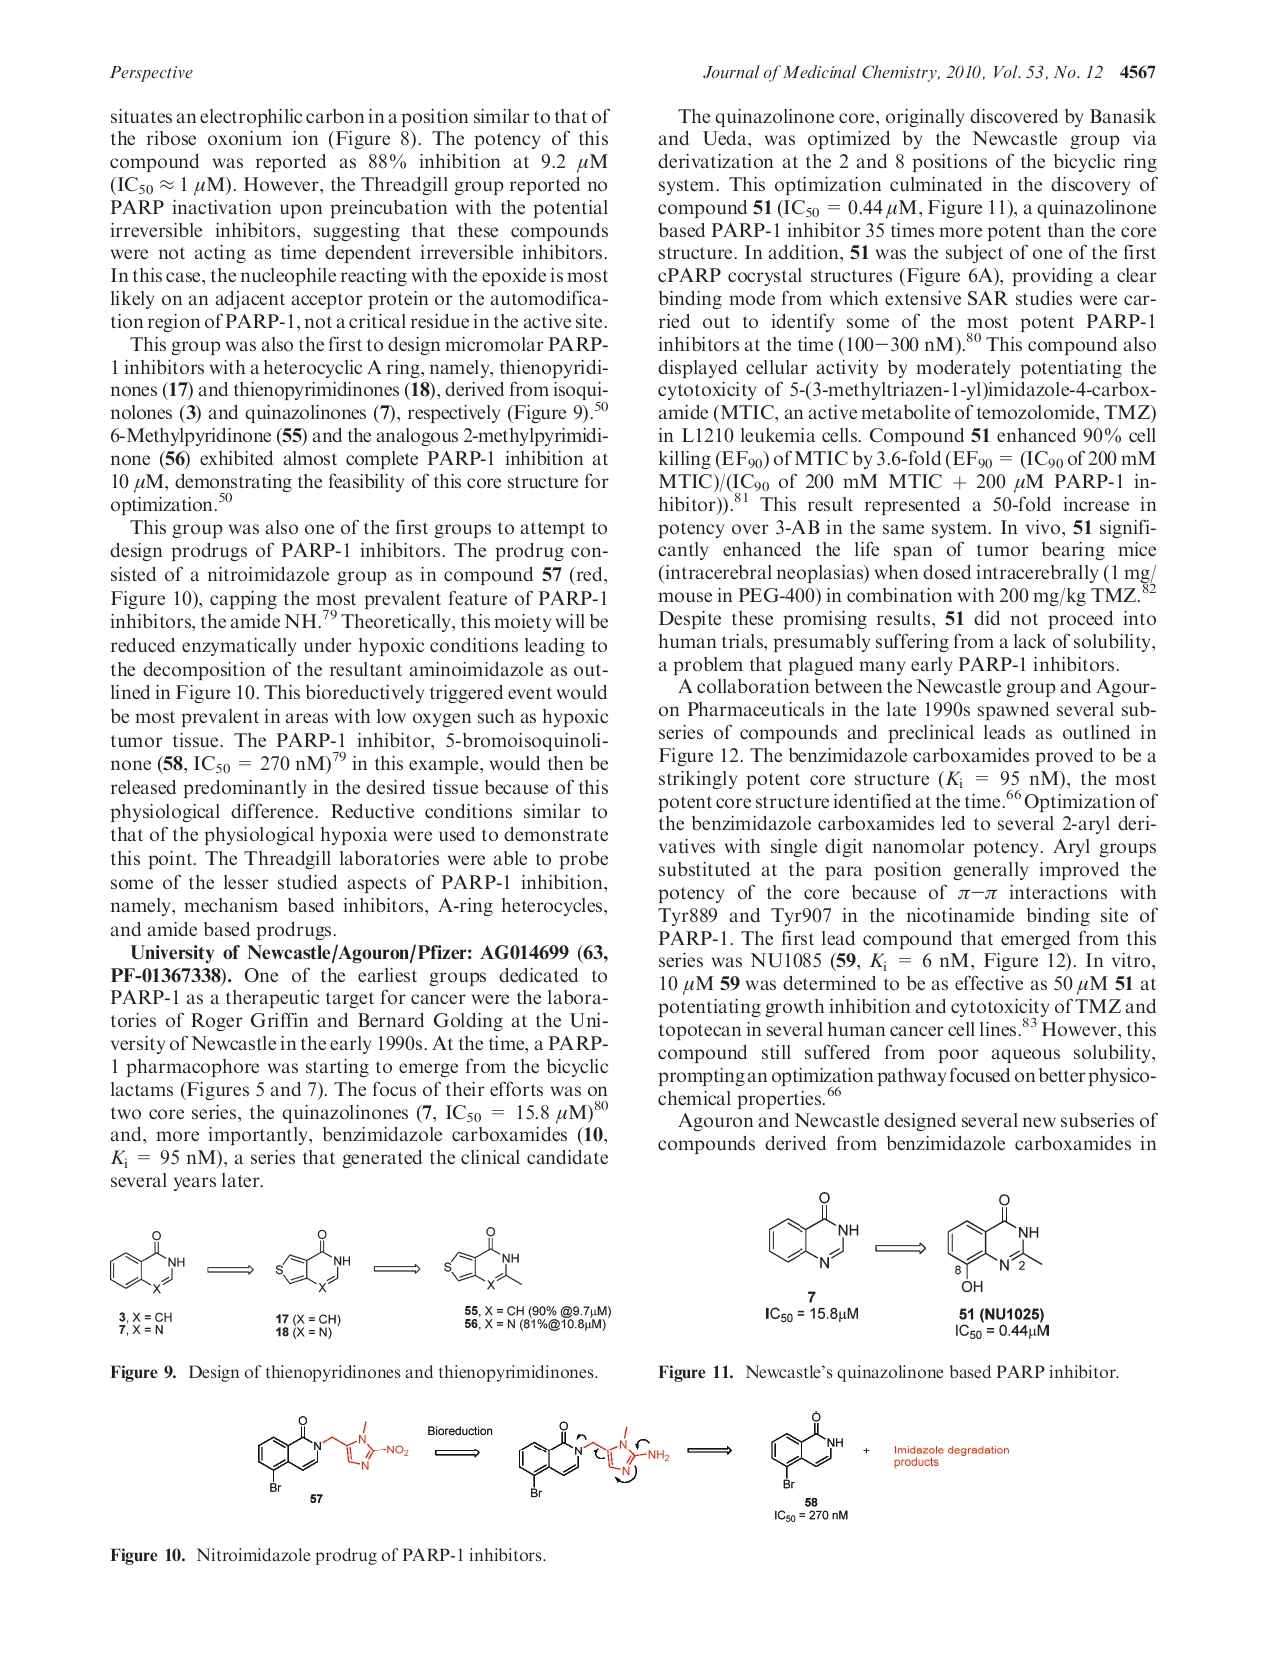exist_molecular: (258, 1400, 415, 1496), (516, 1418, 672, 1501), (946, 1194, 1048, 1291), (769, 1190, 863, 1270), (766, 1408, 852, 1493), (442, 1226, 528, 1290), (108, 1227, 188, 1295), (274, 1227, 352, 1294)
